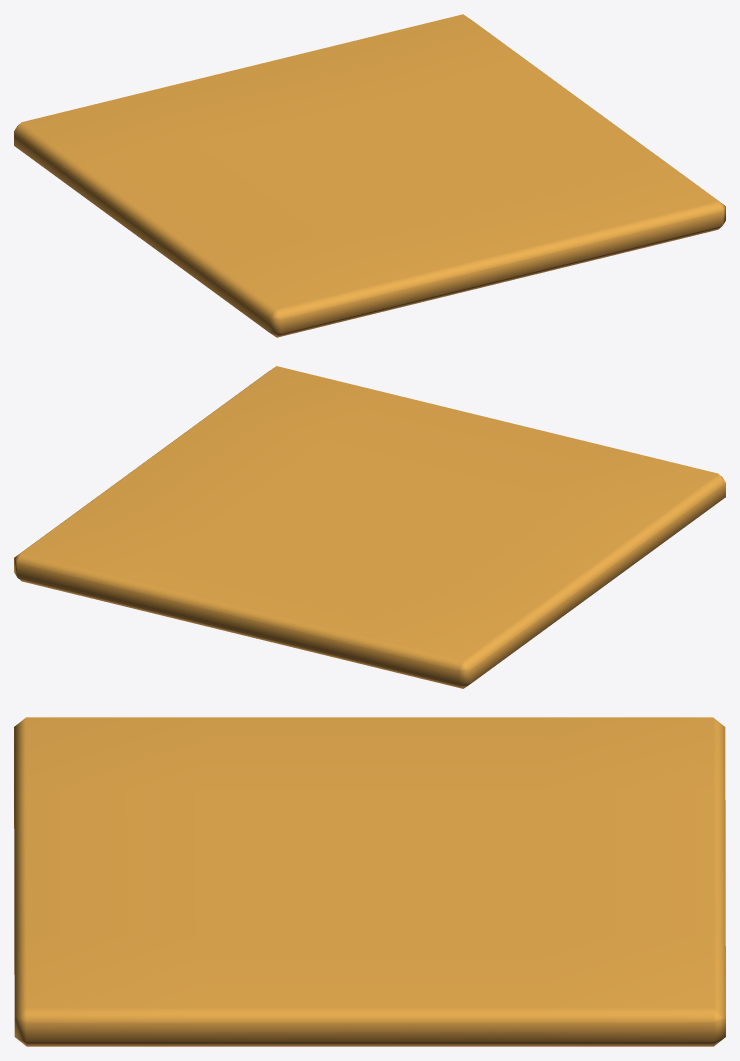
File: rock_top_8x8.fbx
The picture shows the model from 3 angles, top to bottom: view 1: azimuth 30°, elevation 25°; view 2: azimuth 150°, elevation 25°; view 3: azimuth 270°, elevation 25°; orthographic projection. The views are drawn at different scales.
Visible parts, largest first — view 1: rock_top_8x8; view 2: rock_top_8x8; view 3: rock_top_8x8.
Part boxes in pixels (left/top/right/bottom): rock_top_8x8: left=14, top=14, right=725, bottom=337; rock_top_8x8: left=14, top=366, right=725, bottom=688; rock_top_8x8: left=14, top=717, right=725, bottom=1046.
Bounding box in the file's own units: 827 × 50 × 827.
1 material, 1 textured.
